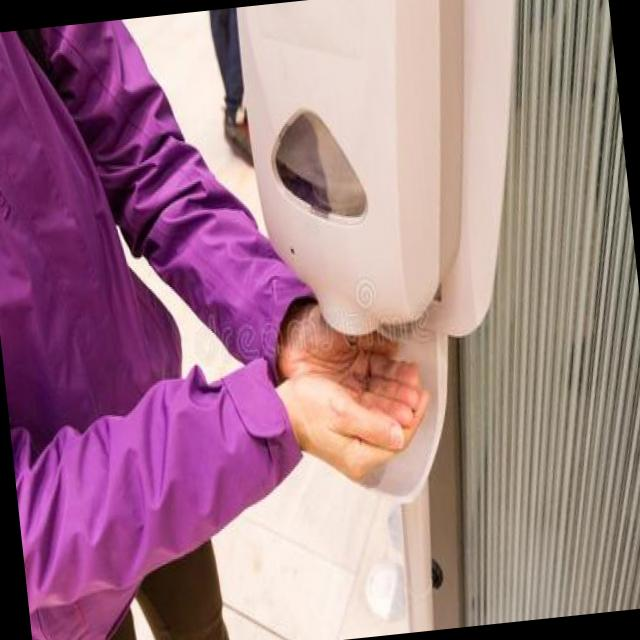sanitizer: (227, 0, 501, 361)
